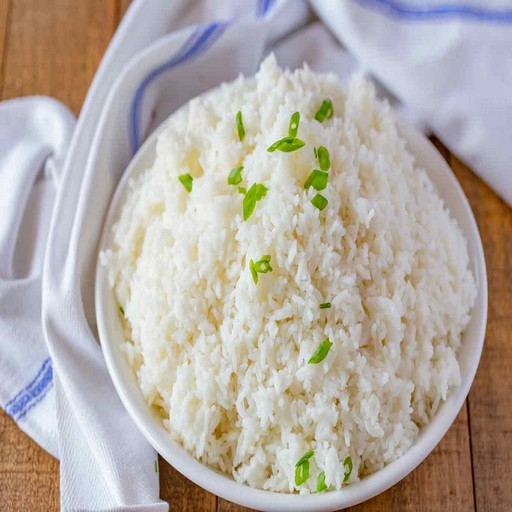rice: (174, 214, 404, 423)
